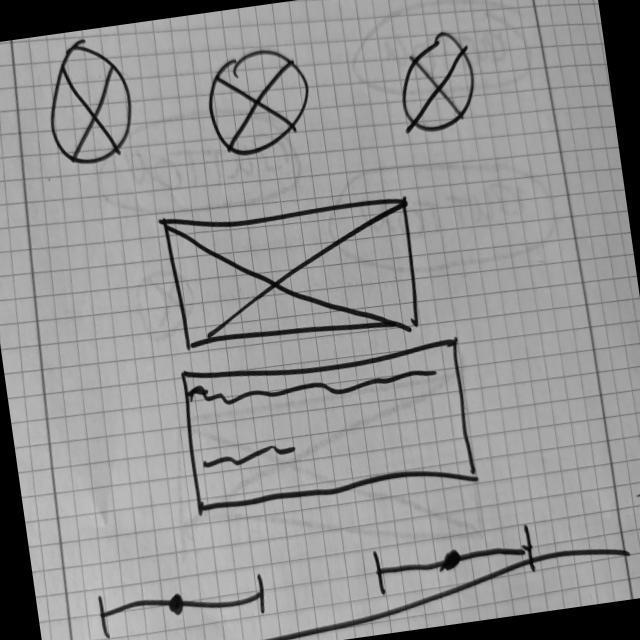image: (162, 183, 427, 361), (39, 37, 143, 173), (201, 45, 318, 162), (391, 27, 485, 140)
slider: (367, 522, 540, 601), (93, 571, 271, 640)
textarea: (179, 333, 484, 522)
